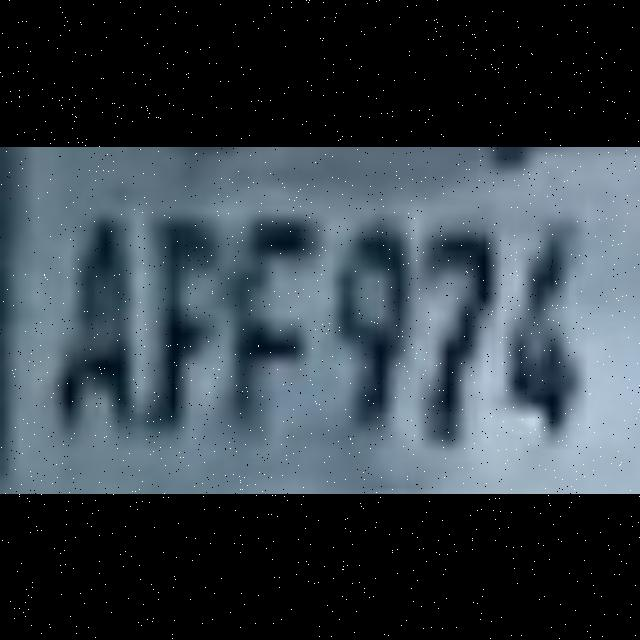4: (514, 169, 608, 471)
7: (418, 169, 514, 471)
9: (324, 169, 420, 471)
A: (41, 169, 136, 471)
F: (136, 169, 230, 471), (230, 169, 324, 471)
